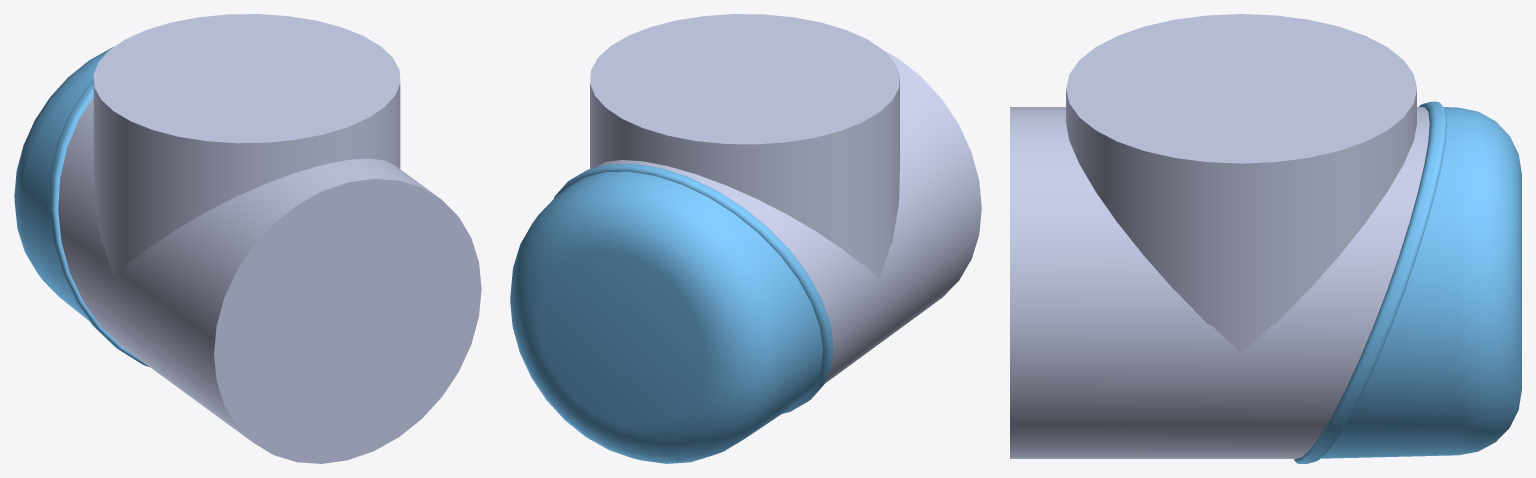
3 views of the same model, side by side, from view 1: azimuth 30°, elevation 25°; view 2: azimuth 150°, elevation 25°; view 3: azimuth 270°, elevation 25° (orthographic). The views are drawn at different scales.
Visible parts, largest first — view 1: R5; view 2: R5; view 3: R5.
Boxes of the visible parts, <box> form: R5: <box>14,14,481,463</box>; R5: <box>510,14,981,463</box>; R5: <box>1010,14,1521,463</box>.
Size of the model in its own units: 0.0765 by 0.0828 by 0.1072.
